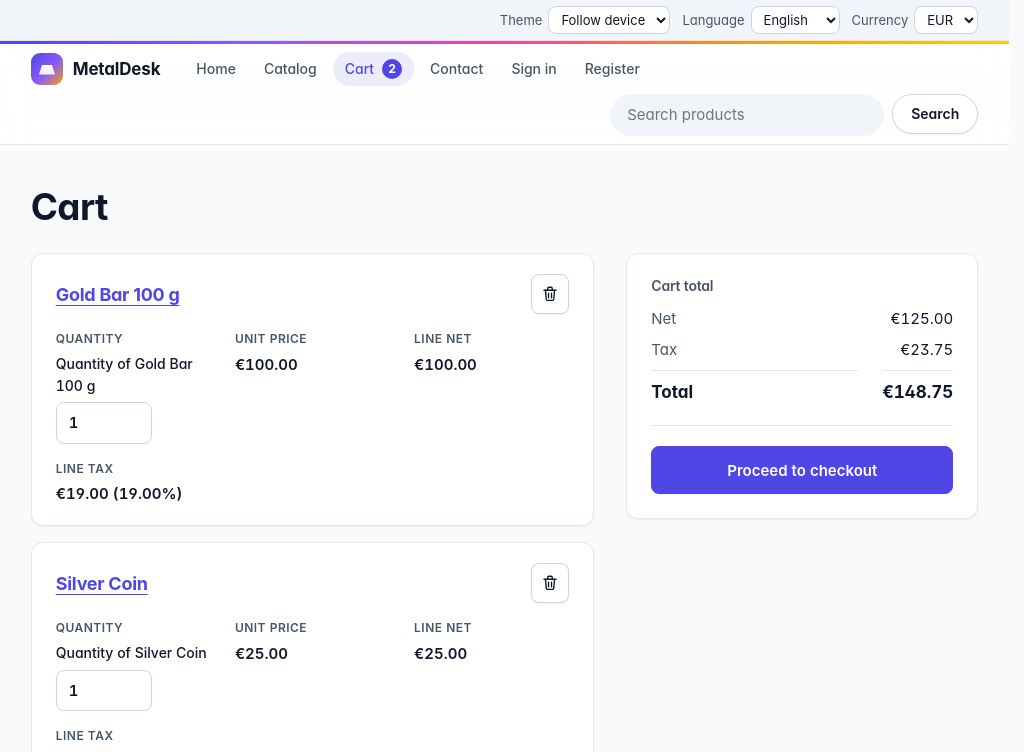
removing a line › removes the line once confirmed
Click the button named "Remove Gold Bar 100 g". click: click(550, 294)
box: [531,274,569,314]
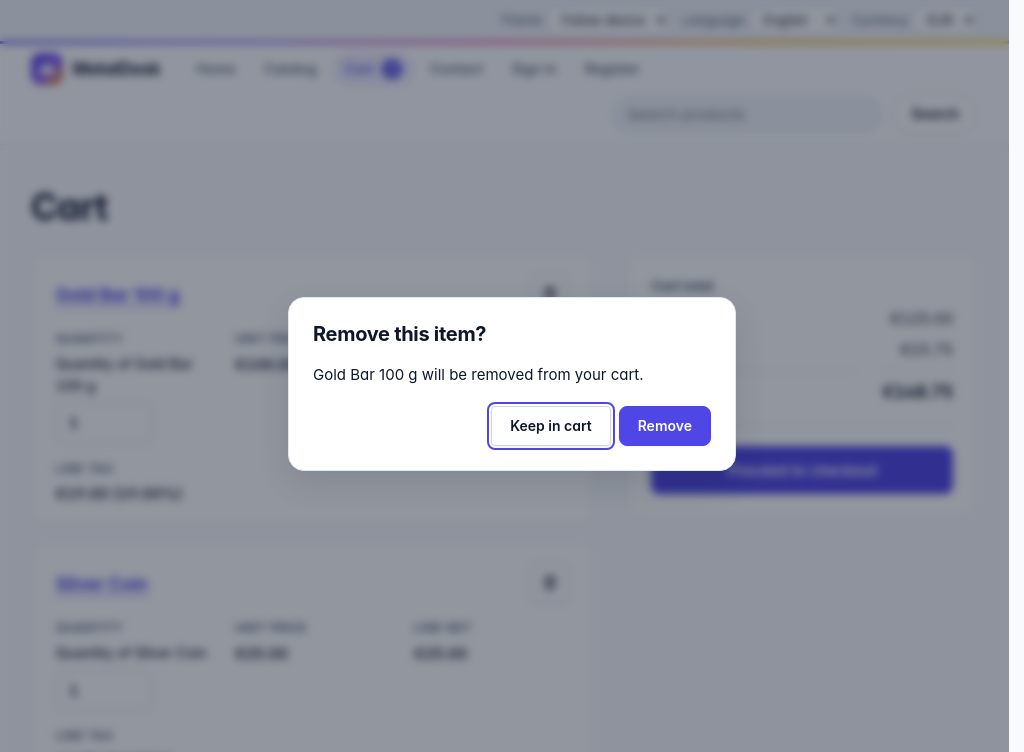
Click the button "Remove". click: click(665, 426)
box: [619,406,711,446]
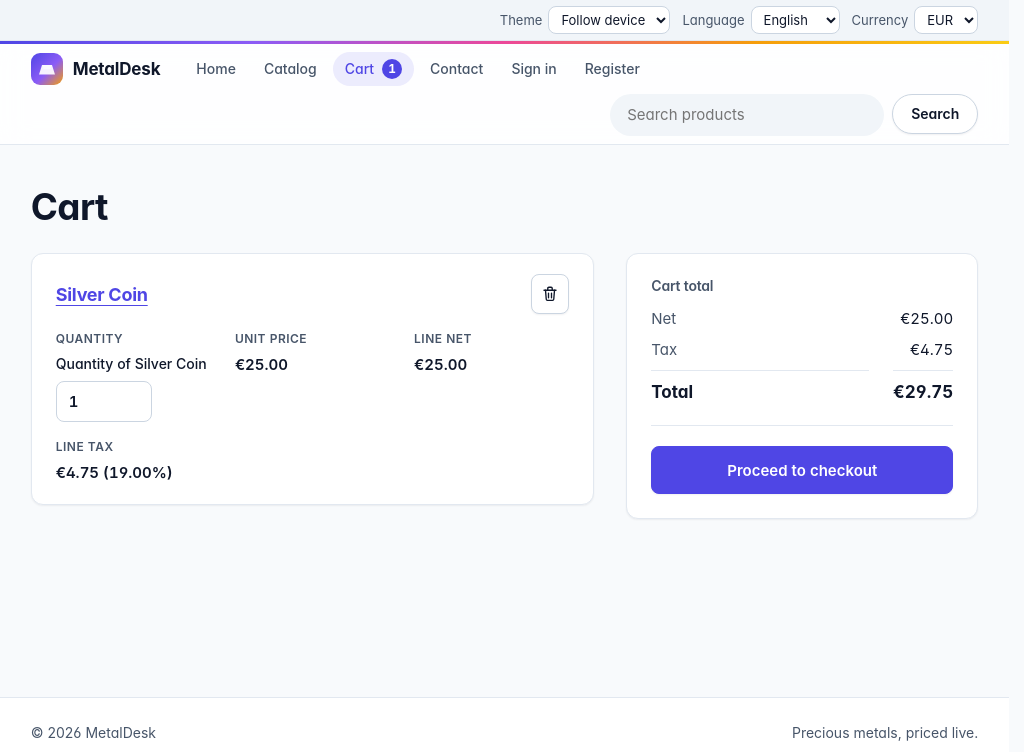
Check: the number of list items with test id "cart-line" is 1, box [31,253,594,505]
